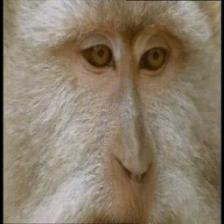monkey: (49, 1, 221, 224)
